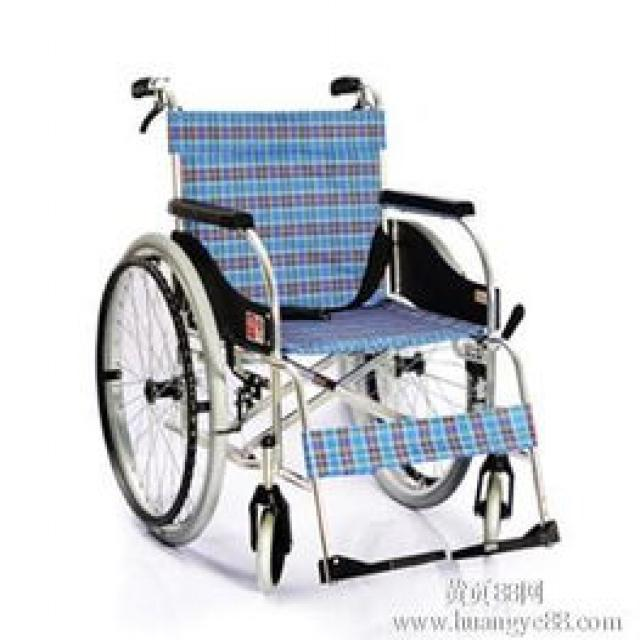wheelchair: (78, 74, 570, 594)
